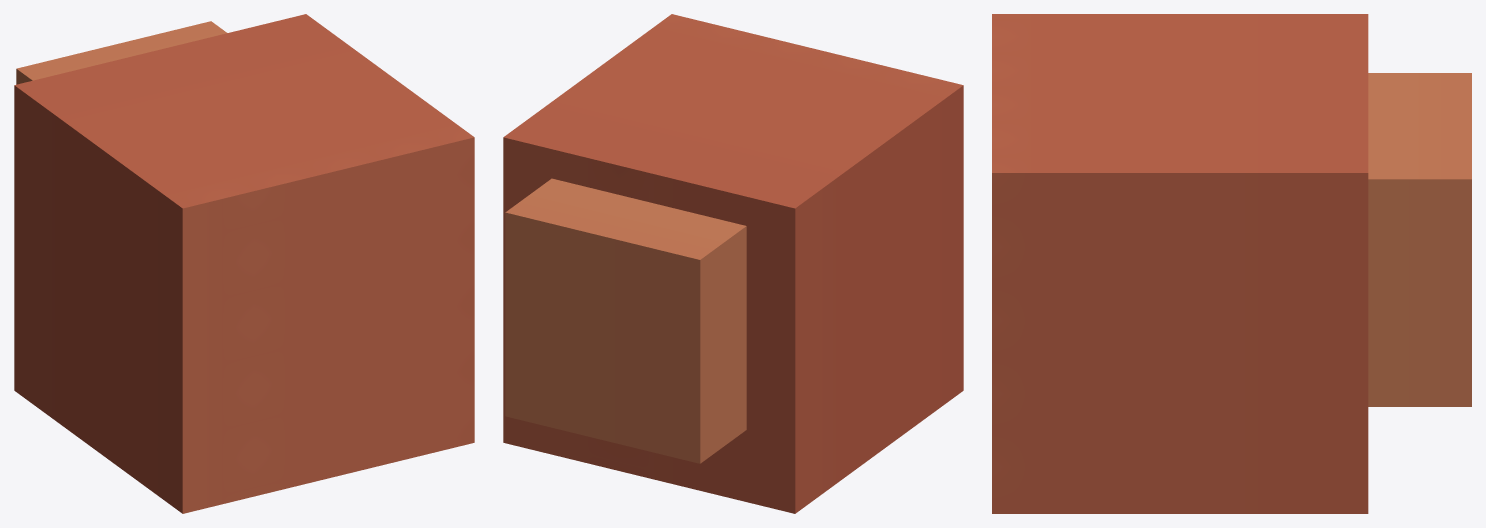
The model's file is ArrowTrap.glb.
3 renders of one model, left to right at view 1: azimuth 30°, elevation 25°; view 2: azimuth 150°, elevation 25°; view 3: azimuth 270°, elevation 25°, orthographic. The views are drawn at different scales.
Visible parts, largest first — view 1: DartBase, DartBarrel; view 2: DartBase, DartBarrel; view 3: DartBase, DartBarrel.
Boxes of the visible parts, x1,y1,x2,y2 form: DartBase: (14, 14, 474, 513); DartBarrel: (16, 21, 227, 84); DartBase: (503, 14, 963, 513); DartBarrel: (505, 178, 746, 463); DartBase: (992, 14, 1368, 513); DartBarrel: (1368, 73, 1471, 406).
Size of the model in its own units: 0.4477 by 0.4477 by 0.5711.
Materials: 2 (2 with a texture image).
